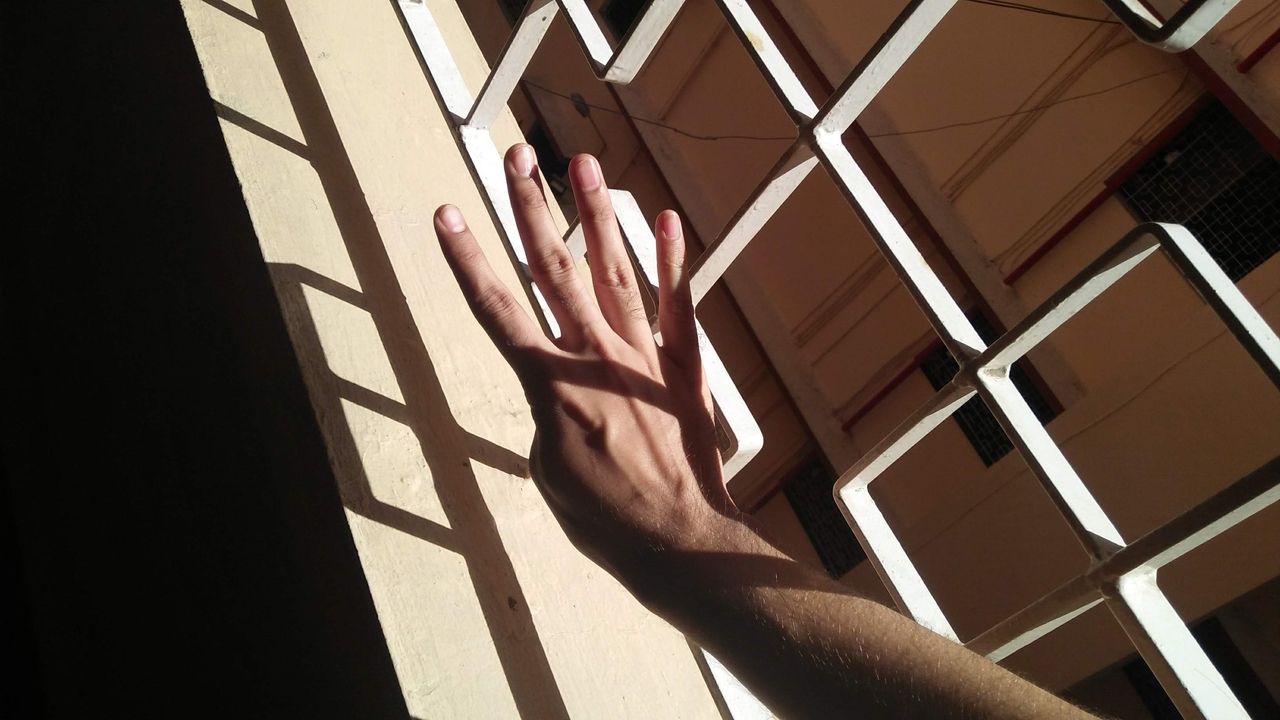fingertip: (422, 190, 478, 246), (488, 136, 546, 186), (560, 146, 610, 196), (644, 202, 694, 244)
